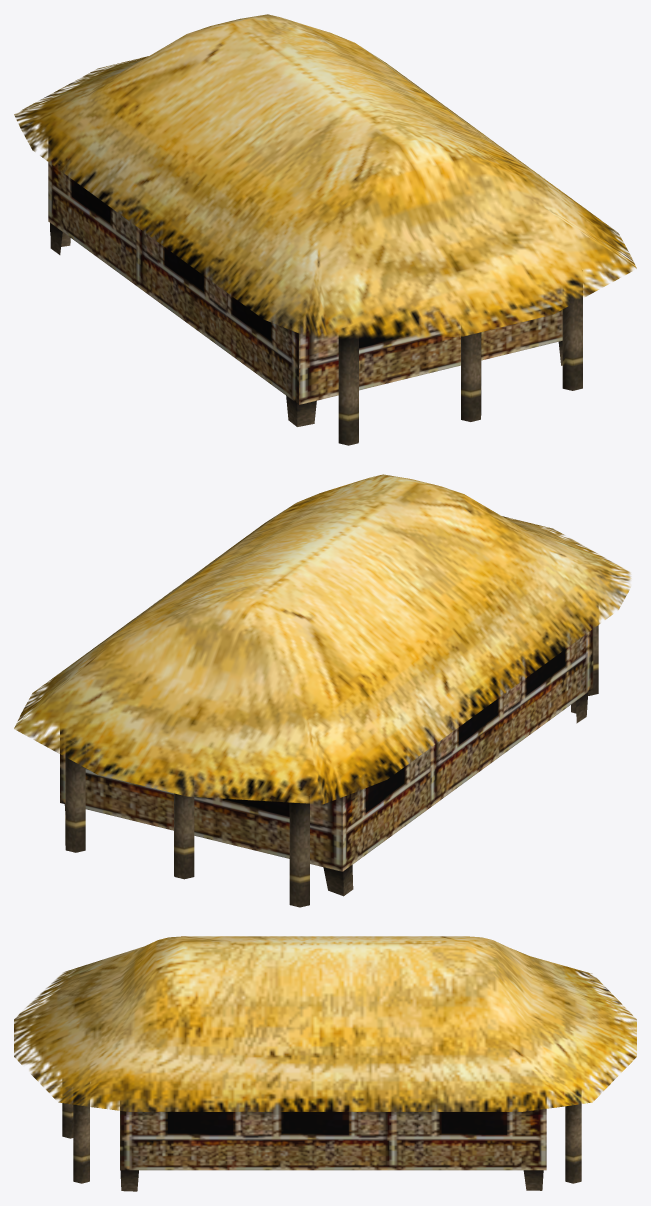
Rendered from Environment - Prop - Gras Hut 01 - PMGrasHut01.glb.
3 views of the same model, one above another, from view 1: azimuth 30°, elevation 25°; view 2: azimuth 150°, elevation 25°; view 3: azimuth 270°, elevation 25° (orthographic). The views are drawn at different scales.
Parts seen in each view (by area): view 1: PMGRASHUT01; view 2: PMGRASHUT01; view 3: PMGRASHUT01.
Part boxes in pixels (<box>): PMGRASHUT01: <box>14,14,636,445</box>; PMGRASHUT01: <box>14,474,630,907</box>; PMGRASHUT01: <box>14,936,636,1191</box>.
Bounding box in the file's own units: 39.57 × 23.92 × 70.72.
1 material, 1 textured.
